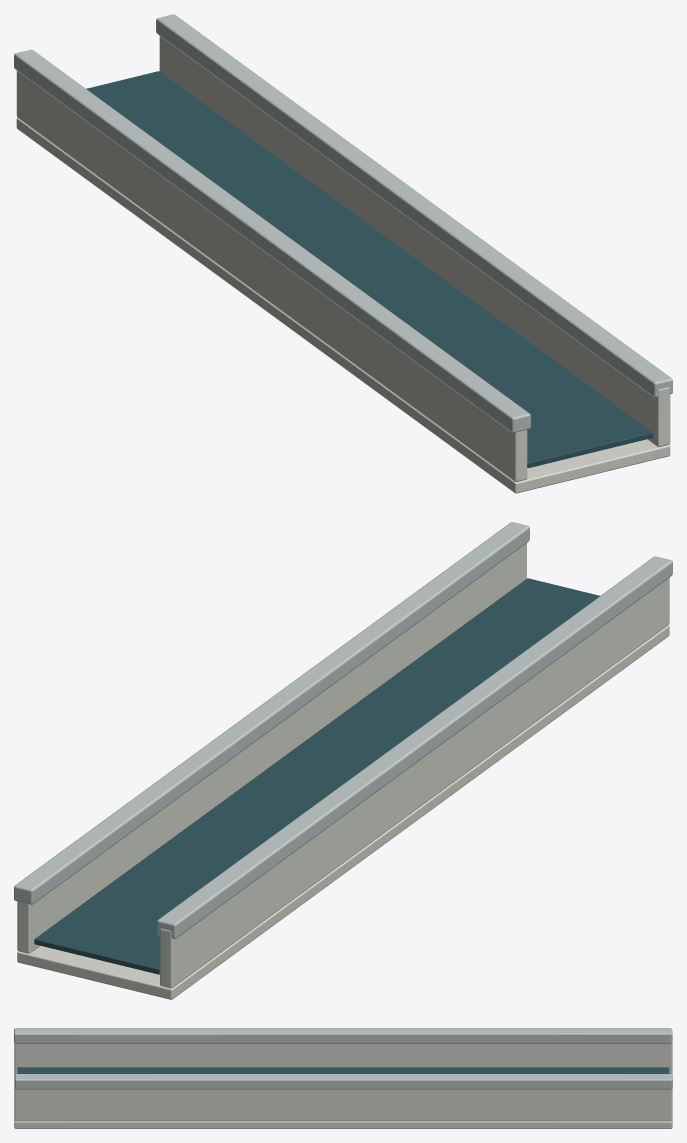
Rendered from generation-ship-hydroponics-generation-ship-hydroponic-c1f221f0__31465.glb.
3 views of the same model, one above another, from view 1: azimuth 30°, elevation 25°; view 2: azimuth 150°, elevation 25°; view 3: azimuth 270°, elevation 25° (orthographic). The views are drawn at different scales.
Parts seen in each view (by area): view 1: generation-ship-hydroponics-nutrient-channel-straight; view 2: generation-ship-hydroponics-nutrient-channel-straight; view 3: generation-ship-hydroponics-nutrient-channel-straight.
Boxes of the visible parts, x1=… form: generation-ship-hydroponics-nutrient-channel-straight: x1=14, y1=14, x2=672, y2=493; generation-ship-hydroponics-nutrient-channel-straight: x1=14, y1=522, x2=672, y2=999; generation-ship-hydroponics-nutrient-channel-straight: x1=14, y1=1028, x2=672, y2=1128.
Size of the model in its own units: 0.375 by 0.17 by 2.
